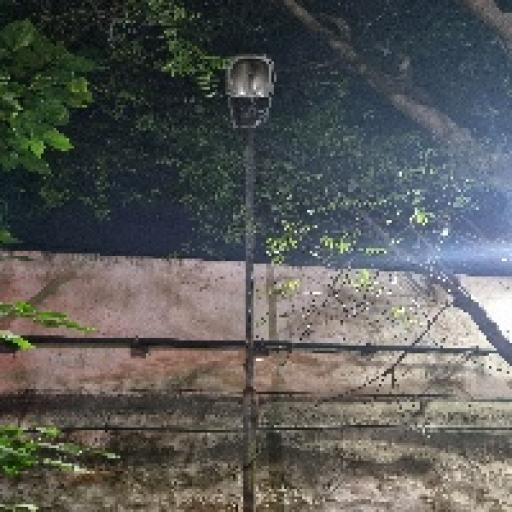Not Working: (205, 42, 294, 152)
